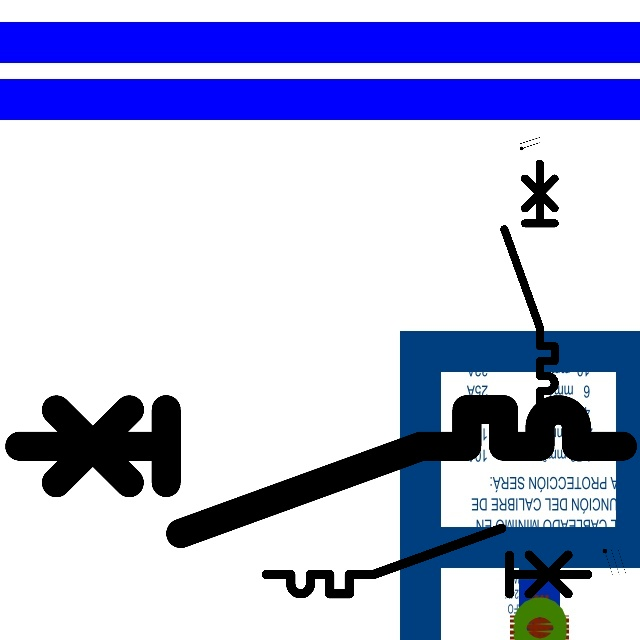interruptor_termomagnetico: (4, 394, 638, 549), (258, 520, 595, 602), (498, 157, 561, 416)
